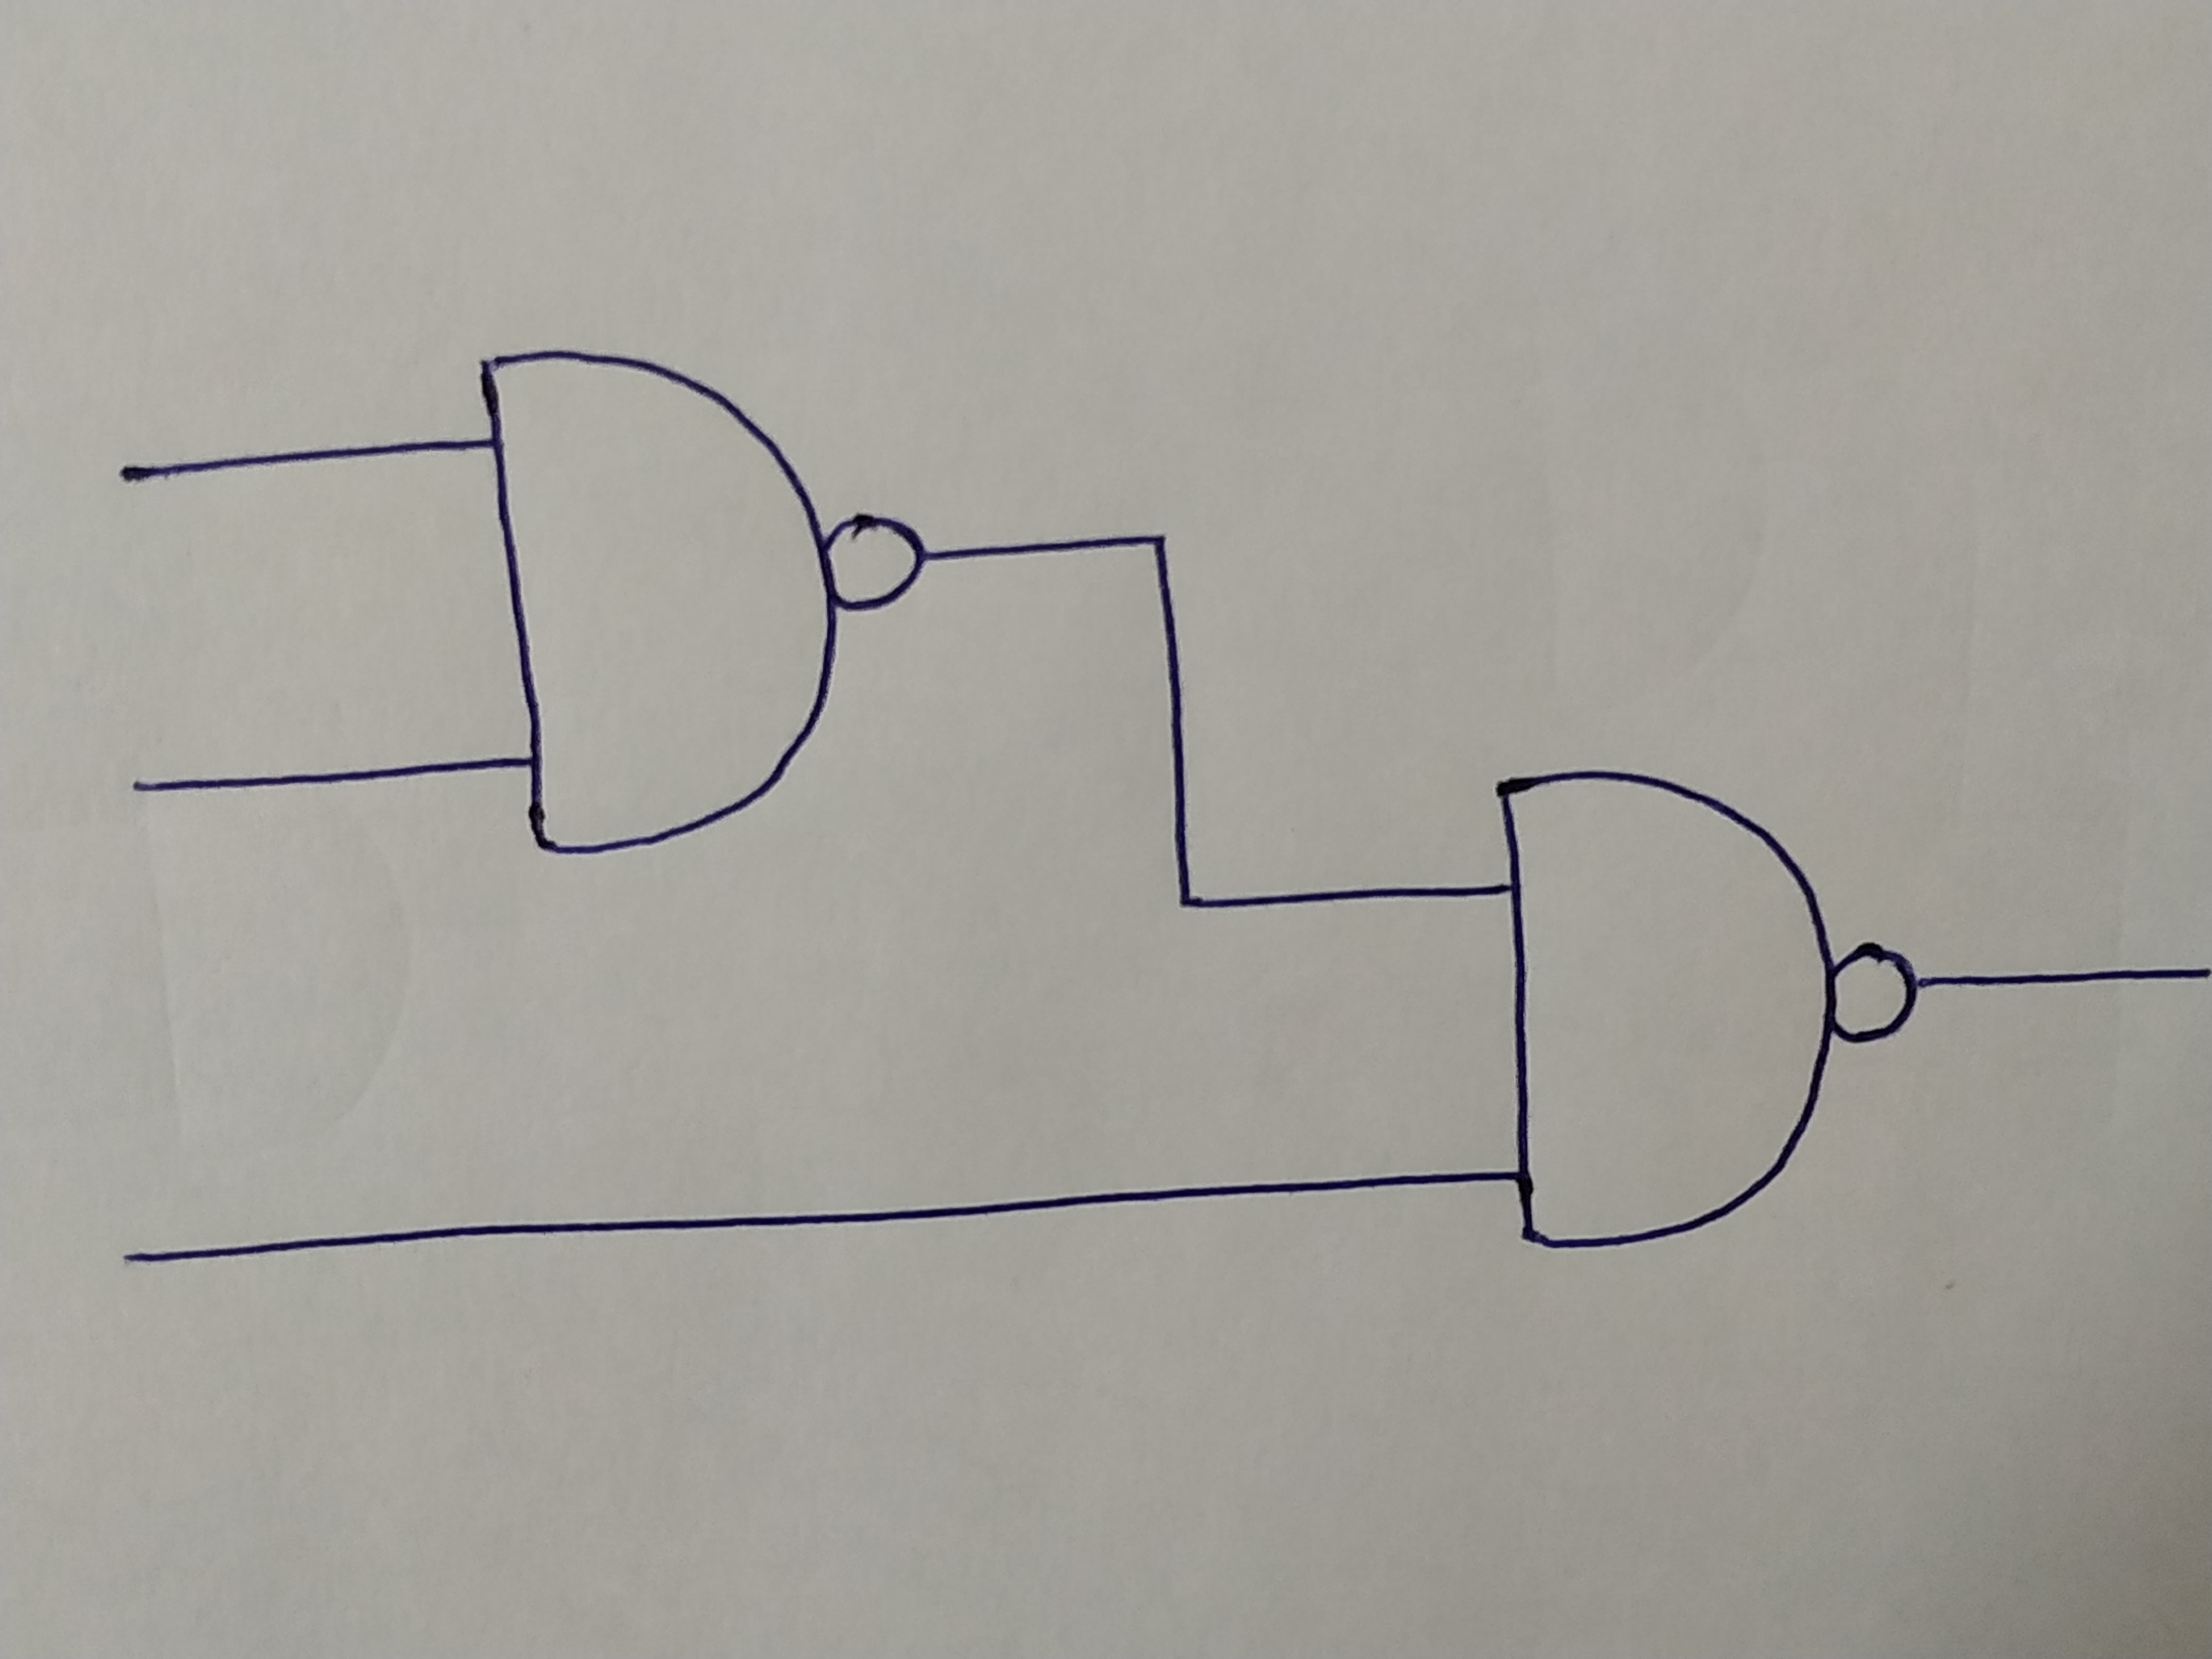and: (479, 357, 827, 852), (1491, 770, 1834, 1251)
not: (827, 521, 925, 610), (1832, 950, 1918, 1044)
